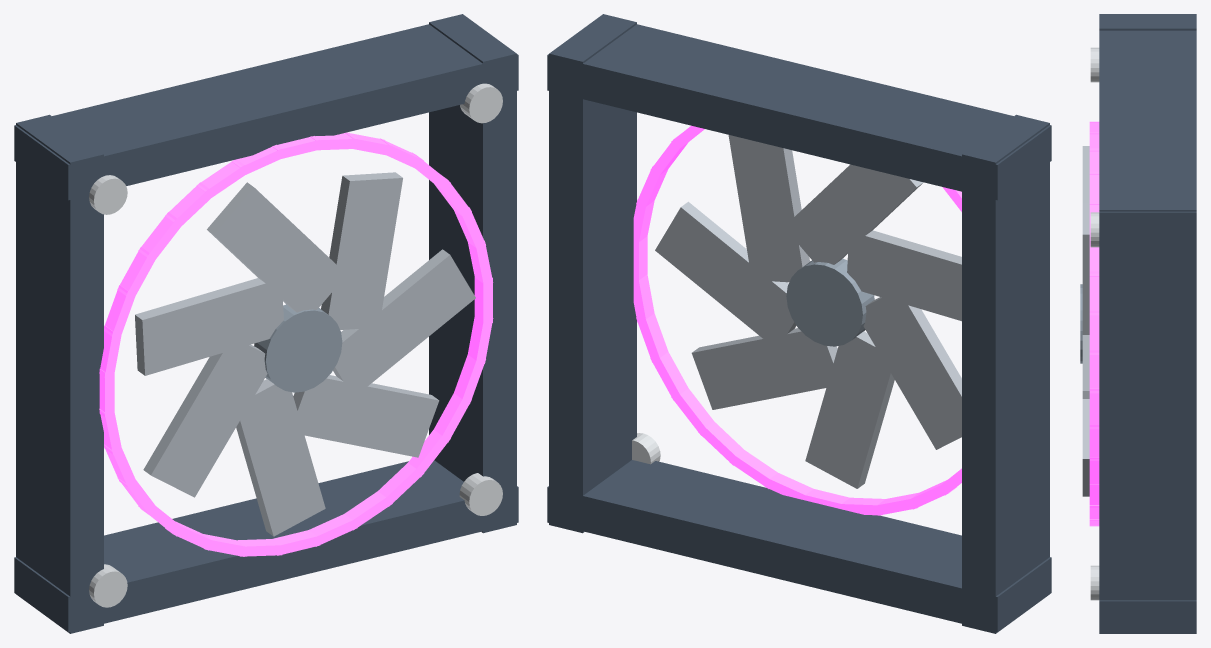
Rendered from fan-front.glb.
The picture shows the model from 3 angles, left to right: view 1: azimuth 30°, elevation 25°; view 2: azimuth 150°, elevation 25°; view 3: azimuth 270°, elevation 25°; orthographic projection. The views are drawn at different scales.
Visible parts, largest first — view 1: fan_rail_1, fan_rail_4, fan_rail_3, fan_rail_2, fan_blade_44, fan_blade_45, fan_blade_42, fan_blade_46, fan_blade_41, fan_blade_43, fan_blade_47, rotor_hub_48 (+21 smaller); view 2: fan_rail_1, fan_rail_4, fan_rail_2, fan_rail_3, fan_blade_46, fan_blade_41, fan_blade_45, fan_blade_47, fan_blade_42, fan_blade_43, fan_blade_44, rotor_hub_48 (+8 smaller); view 3: fan_rail_2, fan_rail_4, fan_rail_3, fan_rail_1, fan_blade_42, fan_blade_47, fan_blade_41, fan_blade_43, argb_ring_12, argb_ring_11, argb_ring_10, argb_ring_9 (+11 smaller).
Boxes of the visible parts, left/top/right/bottom form: fan_rail_1: left=16, top=114, right=103, bottom=633; fan_rail_4: left=14, top=24, right=518, bottom=200; fan_rail_3: left=14, top=460, right=518, bottom=632; fan_rail_2: left=429, top=14, right=516, bottom=533; fan_blade_44: left=135, top=278, right=283, bottom=375; fan_blade_45: left=143, top=337, right=267, bottom=497; fan_blade_42: left=321, top=172, right=402, bottom=329; fan_blade_46: left=236, top=379, right=325, bottom=536; fan_blade_41: left=333, top=249, right=475, bottom=397; fan_blade_43: left=207, top=182, right=341, bottom=312; fan_blade_47: left=293, top=375, right=439, bottom=457; rotor_hub_48: left=254, top=304, right=342, bottom=392; fan_rail_1: left=962, top=114, right=1049, bottom=633; fan_rail_4: left=547, top=24, right=1051, bottom=200; fan_rail_2: left=549, top=14, right=636, bottom=533; fan_rail_3: left=547, top=460, right=1051, bottom=632; fan_blade_46: left=805, top=331, right=894, bottom=488; fan_blade_41: left=655, top=201, right=796, bottom=344; fan_blade_45: left=863, top=289, right=961, bottom=449; fan_blade_47: left=691, top=328, right=840, bottom=409; fan_blade_42: left=728, top=135, right=809, bottom=282; fan_blade_43: left=784, top=164, right=923, bottom=264; fan_blade_44: left=847, top=230, right=961, bottom=321; rotor_hub_48: left=786, top=258, right=874, bottom=346; fan_rail_2: left=1099, top=195, right=1196, bottom=633; fan_rail_4: left=1099, top=30, right=1196, bottom=244; fan_rail_3: left=1099, top=600, right=1196, bottom=632; fan_rail_1: left=1099, top=14, right=1196, bottom=30; fan_blade_42: left=1082, top=202, right=1089, bottom=334; fan_blade_47: left=1082, top=399, right=1089, bottom=496; fan_blade_41: left=1082, top=335, right=1089, bottom=398; fan_blade_43: left=1082, top=146, right=1089, bottom=202; argb_ring_12: left=1089, top=271, right=1099, bottom=315; argb_ring_11: left=1089, top=310, right=1099, bottom=354; argb_ring_10: left=1089, top=350, right=1099, bottom=393; argb_ring_9: left=1089, top=388, right=1099, bottom=429.
Size of the model in its own units: 1.2 by 1.2 by 0.2988.
